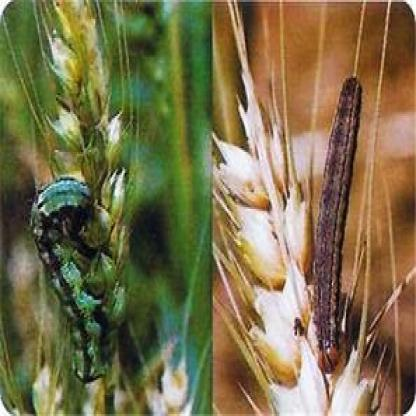armyworm: (28, 172, 109, 386), (307, 72, 362, 376)
